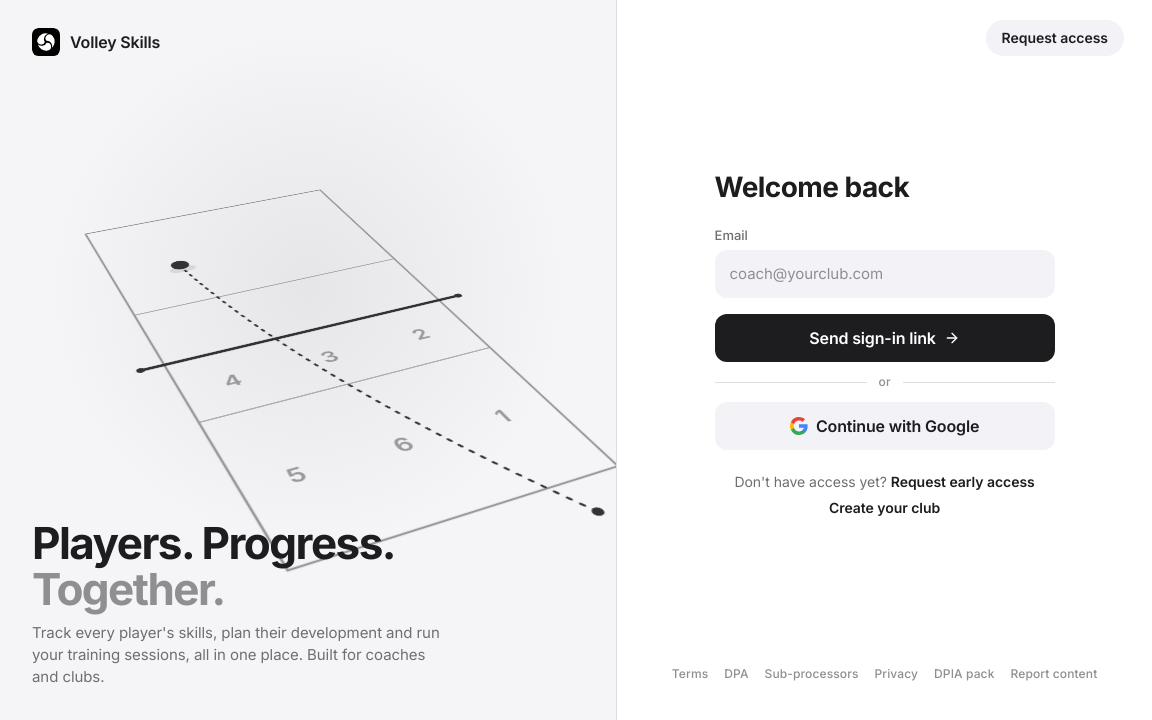
Test: LoginPage › sends a sign-in link and shows a confirmation message
Type "coach@example.com" into the field labelled "Email" at (885, 274), box [715,250,1055,298]
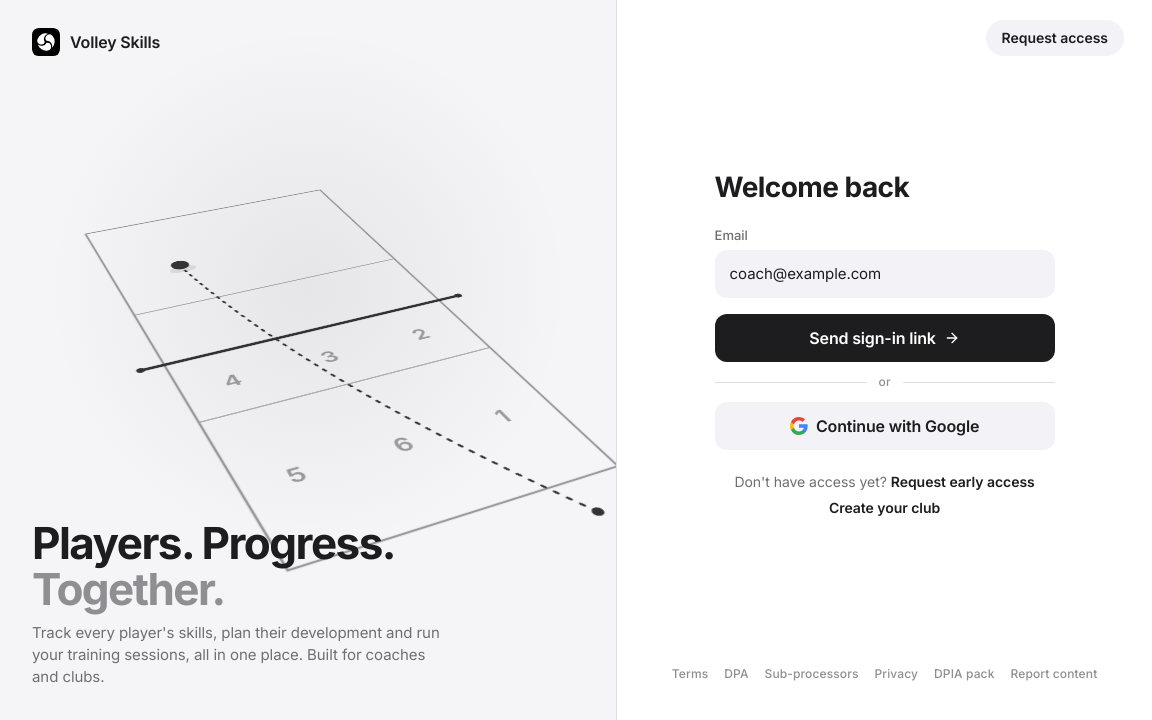
Click the button "Send sign-in link" at (885, 338), box [715,314,1055,362]
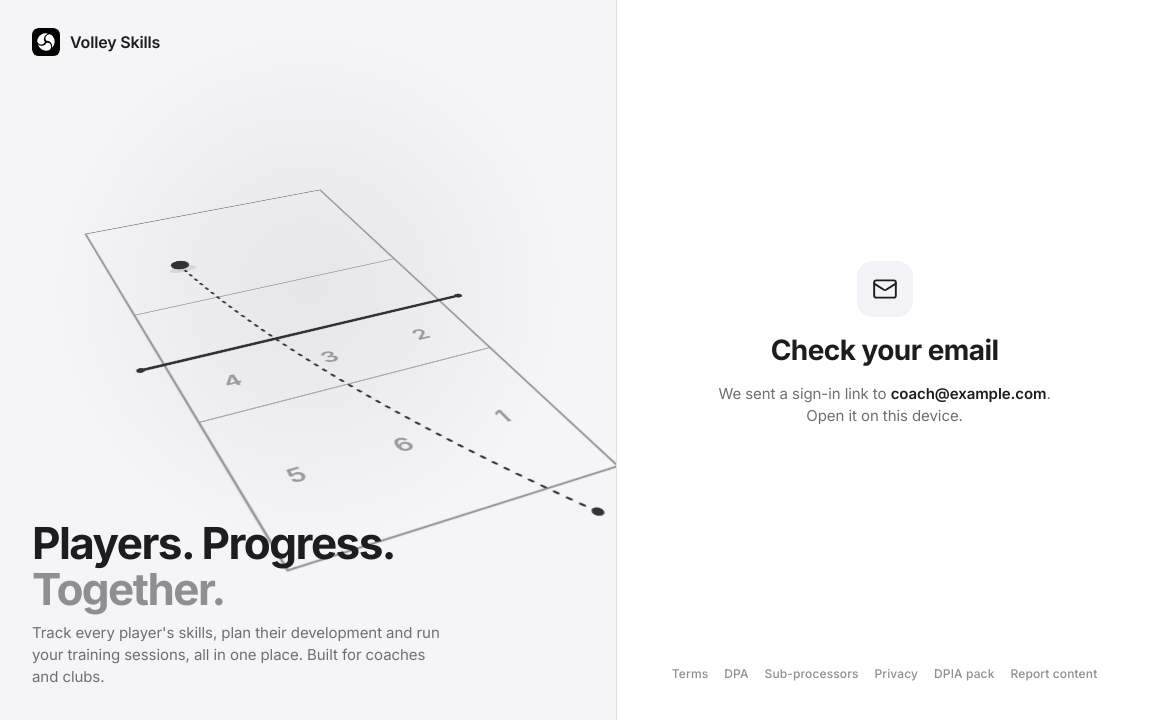
Now the heading "Check your email" is shown, box [771,333,998,367]
Now the text "coach@example.com" is shown, box [891,384,1046,403]
